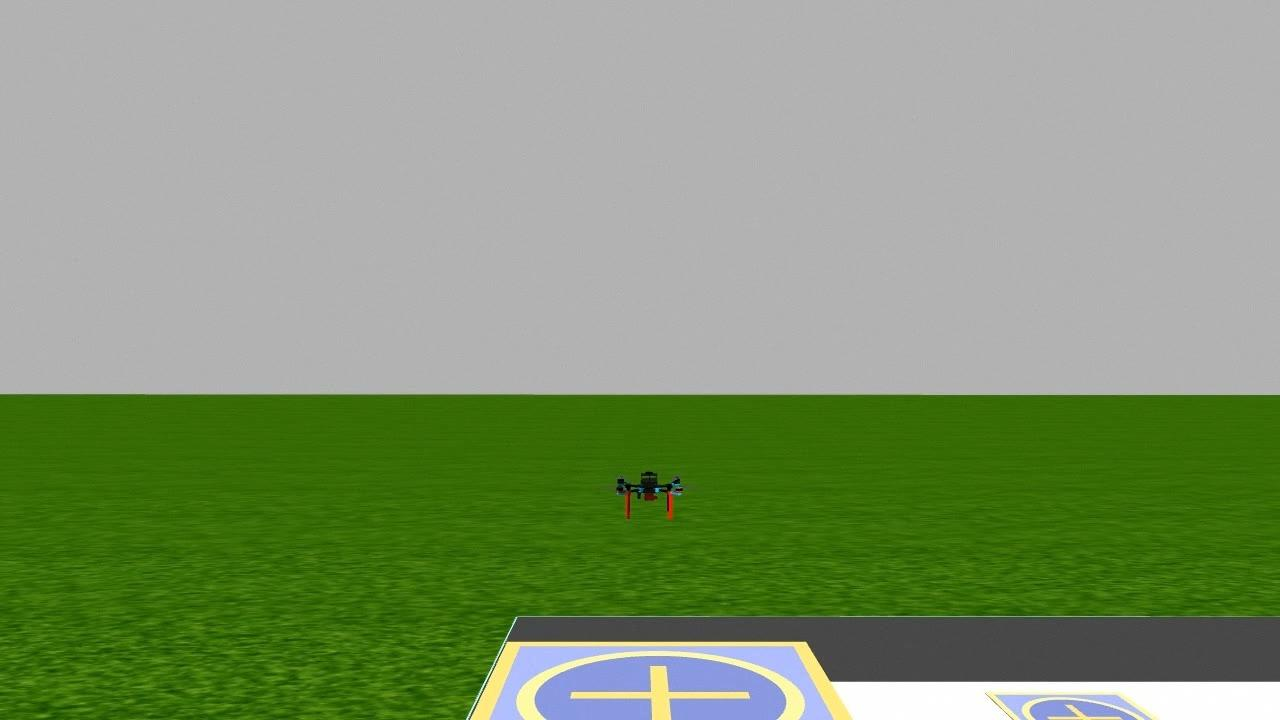UAV: (601, 452, 697, 534)
